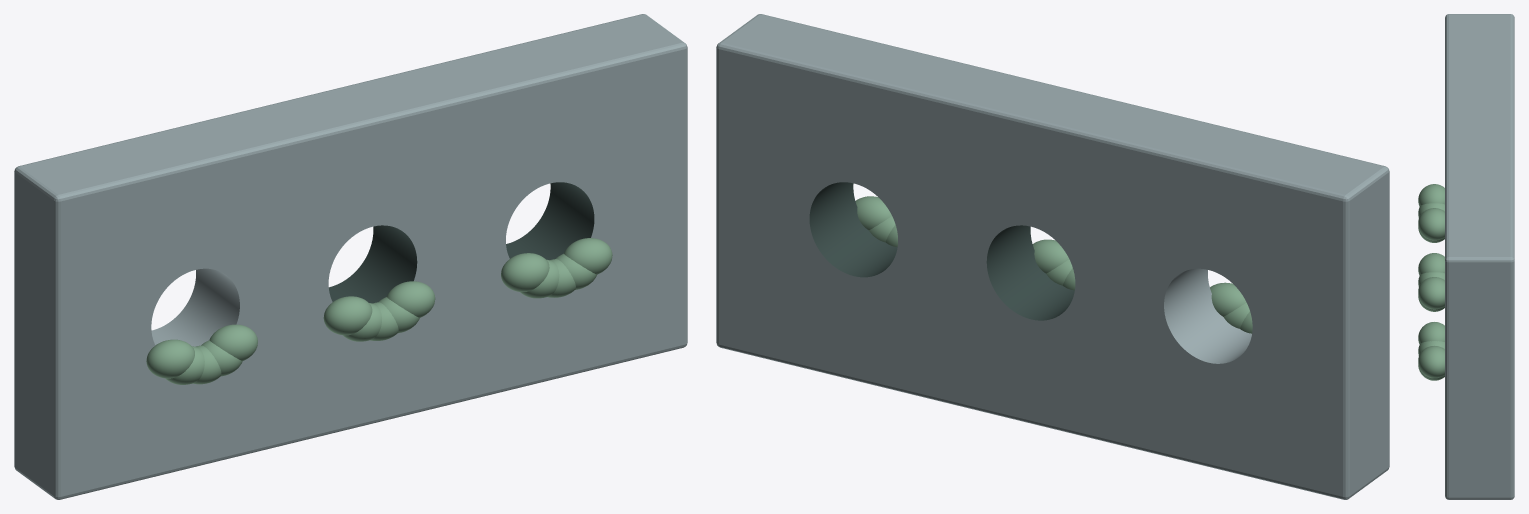
The model's file is die.glb.
The picture shows the model from 3 angles, left to right: view 1: azimuth 30°, elevation 25°; view 2: azimuth 150°, elevation 25°; view 3: azimuth 270°, elevation 25°; orthographic projection. The views are drawn at different scales.
Parts seen in each view (by area): view 1: Die face.001, Lip residue.005, Lip residue, Lip residue.010, Lip residue.009, Lip residue.014, Lip residue.004; view 2: Die face.001, Lip residue.009, Lip residue.014, Lip residue.004; view 3: Die face.001, Lip residue.004, Lip residue.009, Lip residue.014, Lip residue.005, Lip residue, Lip residue.010, Lip residue.001, Lip residue.006, Lip residue.011.
Boxes of the visible parts, box(x1,y1,x2,y2) form: Die face.001: box(14, 14, 687, 499); Lip residue.005: box(323, 296, 372, 335); Lip residue: box(146, 339, 194, 378); Lip residue.010: box(501, 253, 549, 291); Lip residue.009: box(386, 281, 435, 317); Lip residue.014: box(564, 238, 612, 274); Lip residue.004: box(209, 324, 257, 360); Die face.001: box(716, 14, 1389, 499); Lip residue.009: box(1032, 239, 1068, 273); Lip residue.014: box(855, 196, 891, 230); Lip residue.004: box(1210, 282, 1246, 316); Die face.001: box(1445, 14, 1514, 499); Lip residue.004: box(1418, 208, 1444, 240); Lip residue.009: box(1418, 277, 1444, 309); Lip residue.014: box(1418, 346, 1444, 378); Lip residue.005: box(1418, 253, 1444, 275); Lip residue: box(1418, 184, 1444, 206); Lip residue.010: box(1418, 322, 1444, 344); Lip residue.001: box(1418, 203, 1444, 217); Lip residue.006: box(1418, 272, 1444, 286); Lip residue.011: box(1418, 341, 1444, 355).
Size of the model in its own units: 5 by 2.3 by 0.83.
